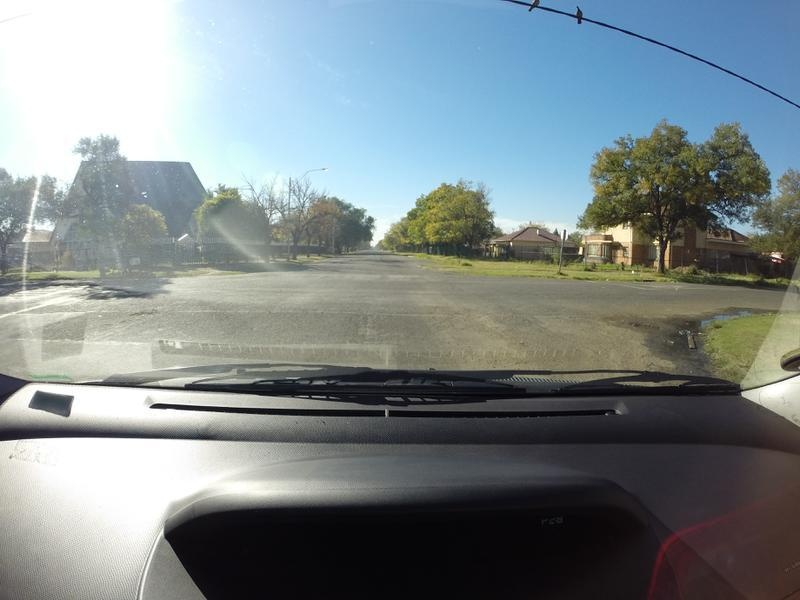pothole: (123, 310, 156, 320), (618, 323, 659, 331)
